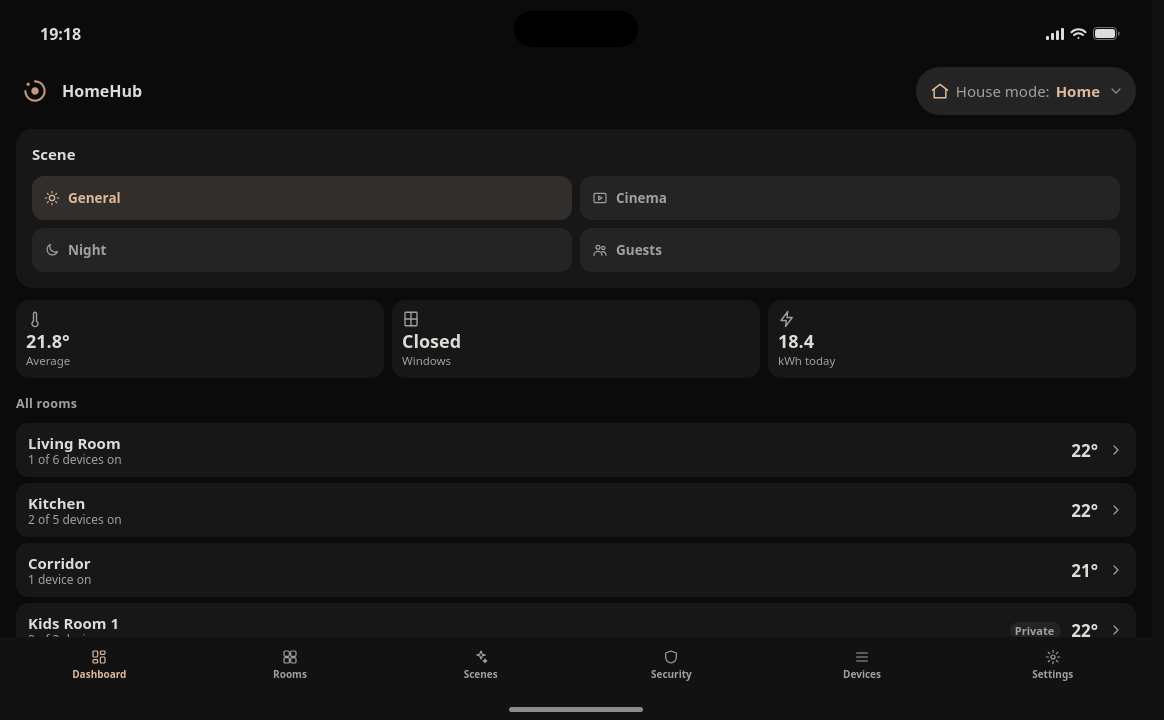
телефон: шапка и экраны › внутренний экран: «назад» над единственным заголовком
Click the button "Rooms". click: (290, 664)
box: [195, 643, 385, 686]
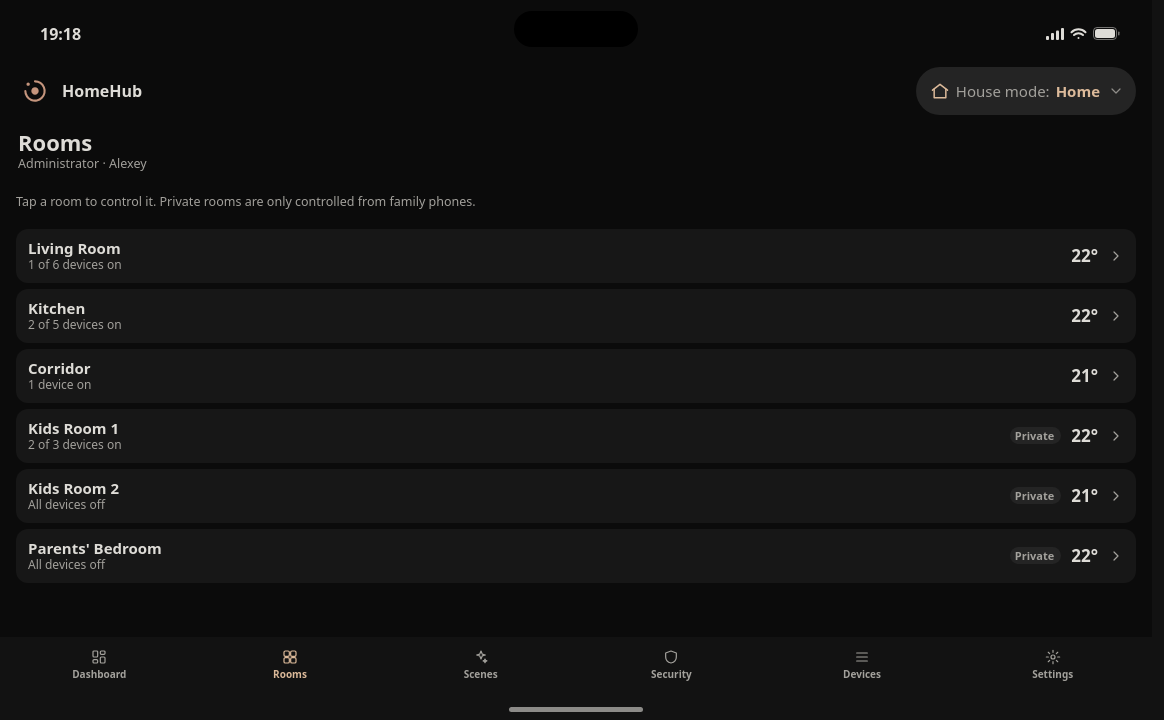
Click the button "Living Room 1 of 6 devices on 22°". click: (74, 248)
box: [16, 228, 1136, 282]
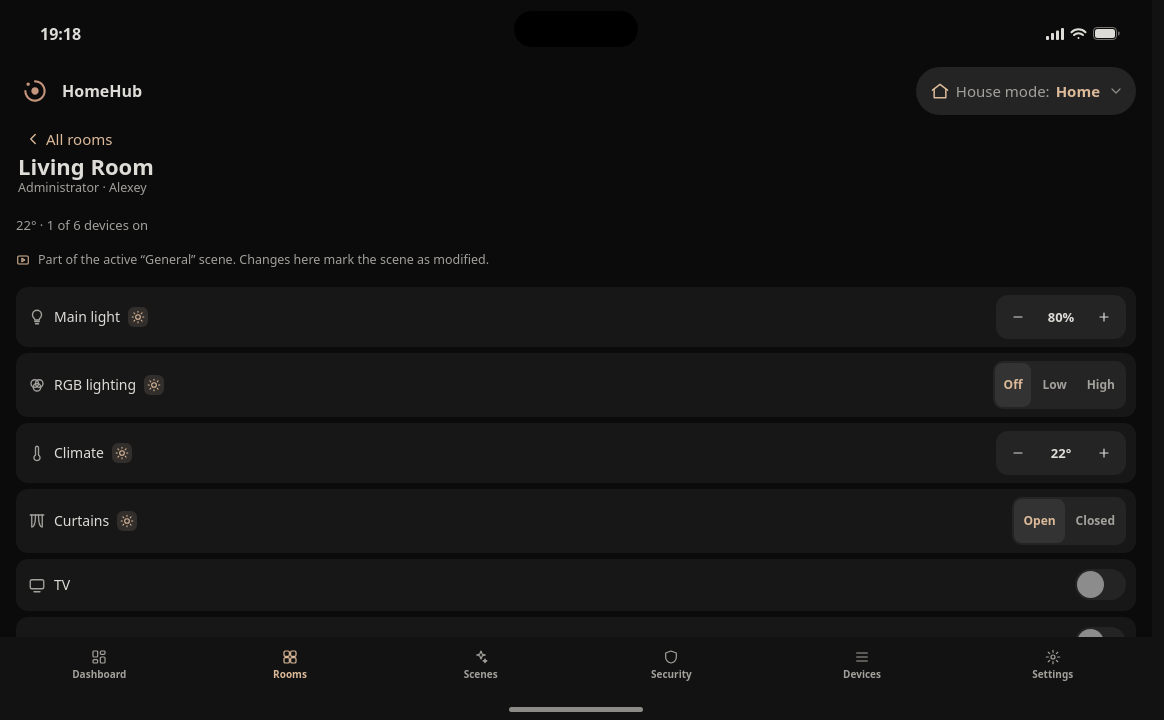
Check: the number of headings "Living Room" is 1, box [18, 151, 154, 181]
Click the button "All rooms". click: (68, 139)
box: [18, 129, 118, 149]
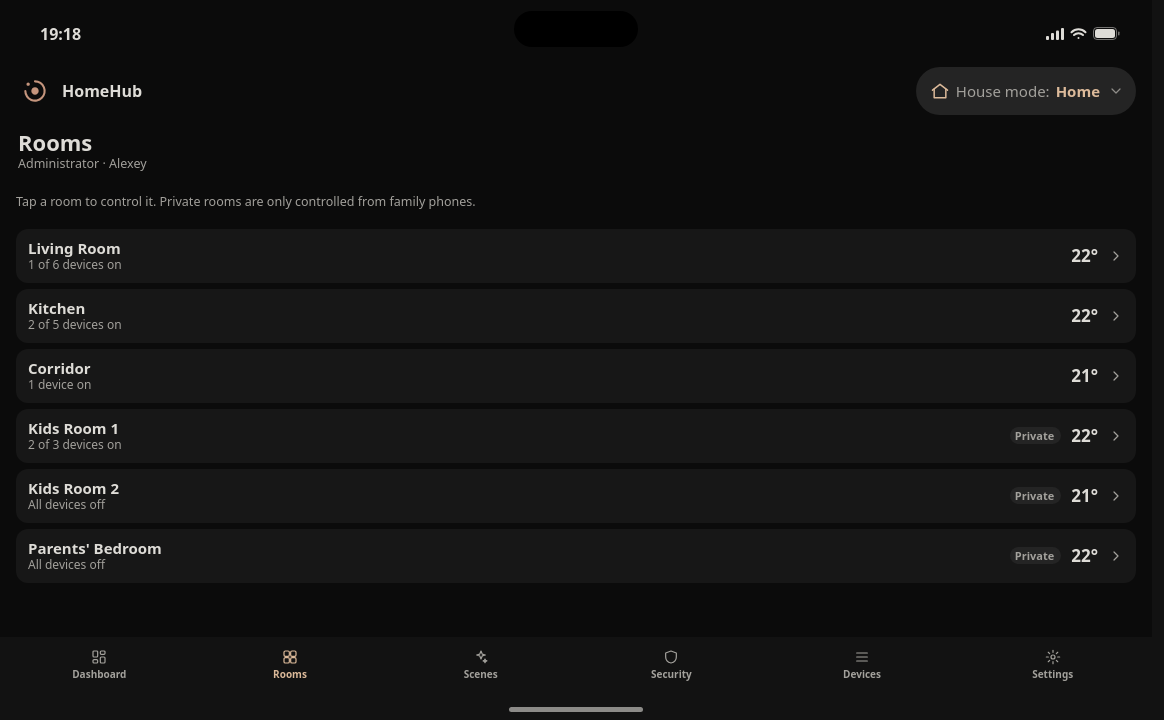
Check: the button "All rooms" is gone
Check: the heading "Rooms" is shown, box [18, 127, 92, 157]
